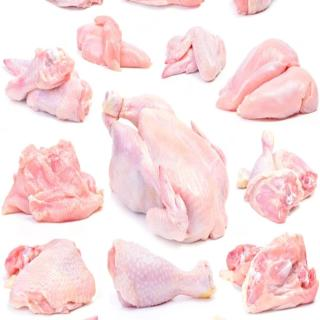Ayam: (101, 89, 233, 246), (2, 138, 106, 226), (215, 37, 320, 122), (218, 229, 320, 316), (107, 238, 219, 311), (237, 128, 320, 225), (3, 238, 98, 319), (4, 46, 95, 126), (76, 14, 155, 74), (162, 25, 229, 84)
